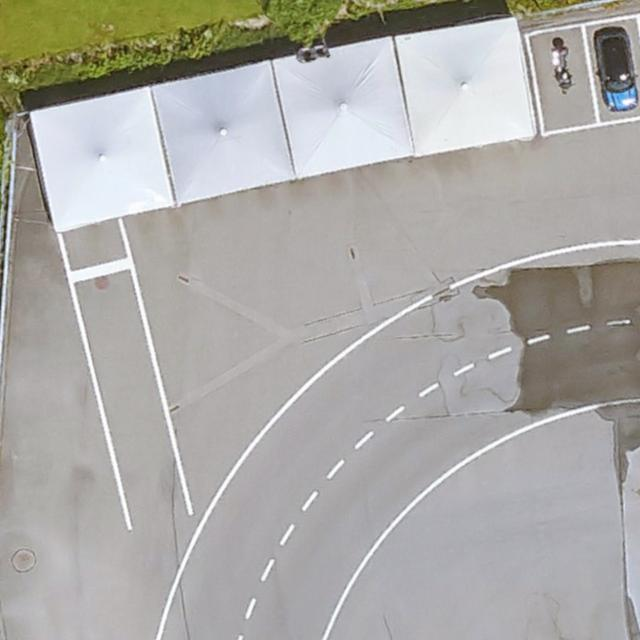tree: (262, 0, 343, 37)
